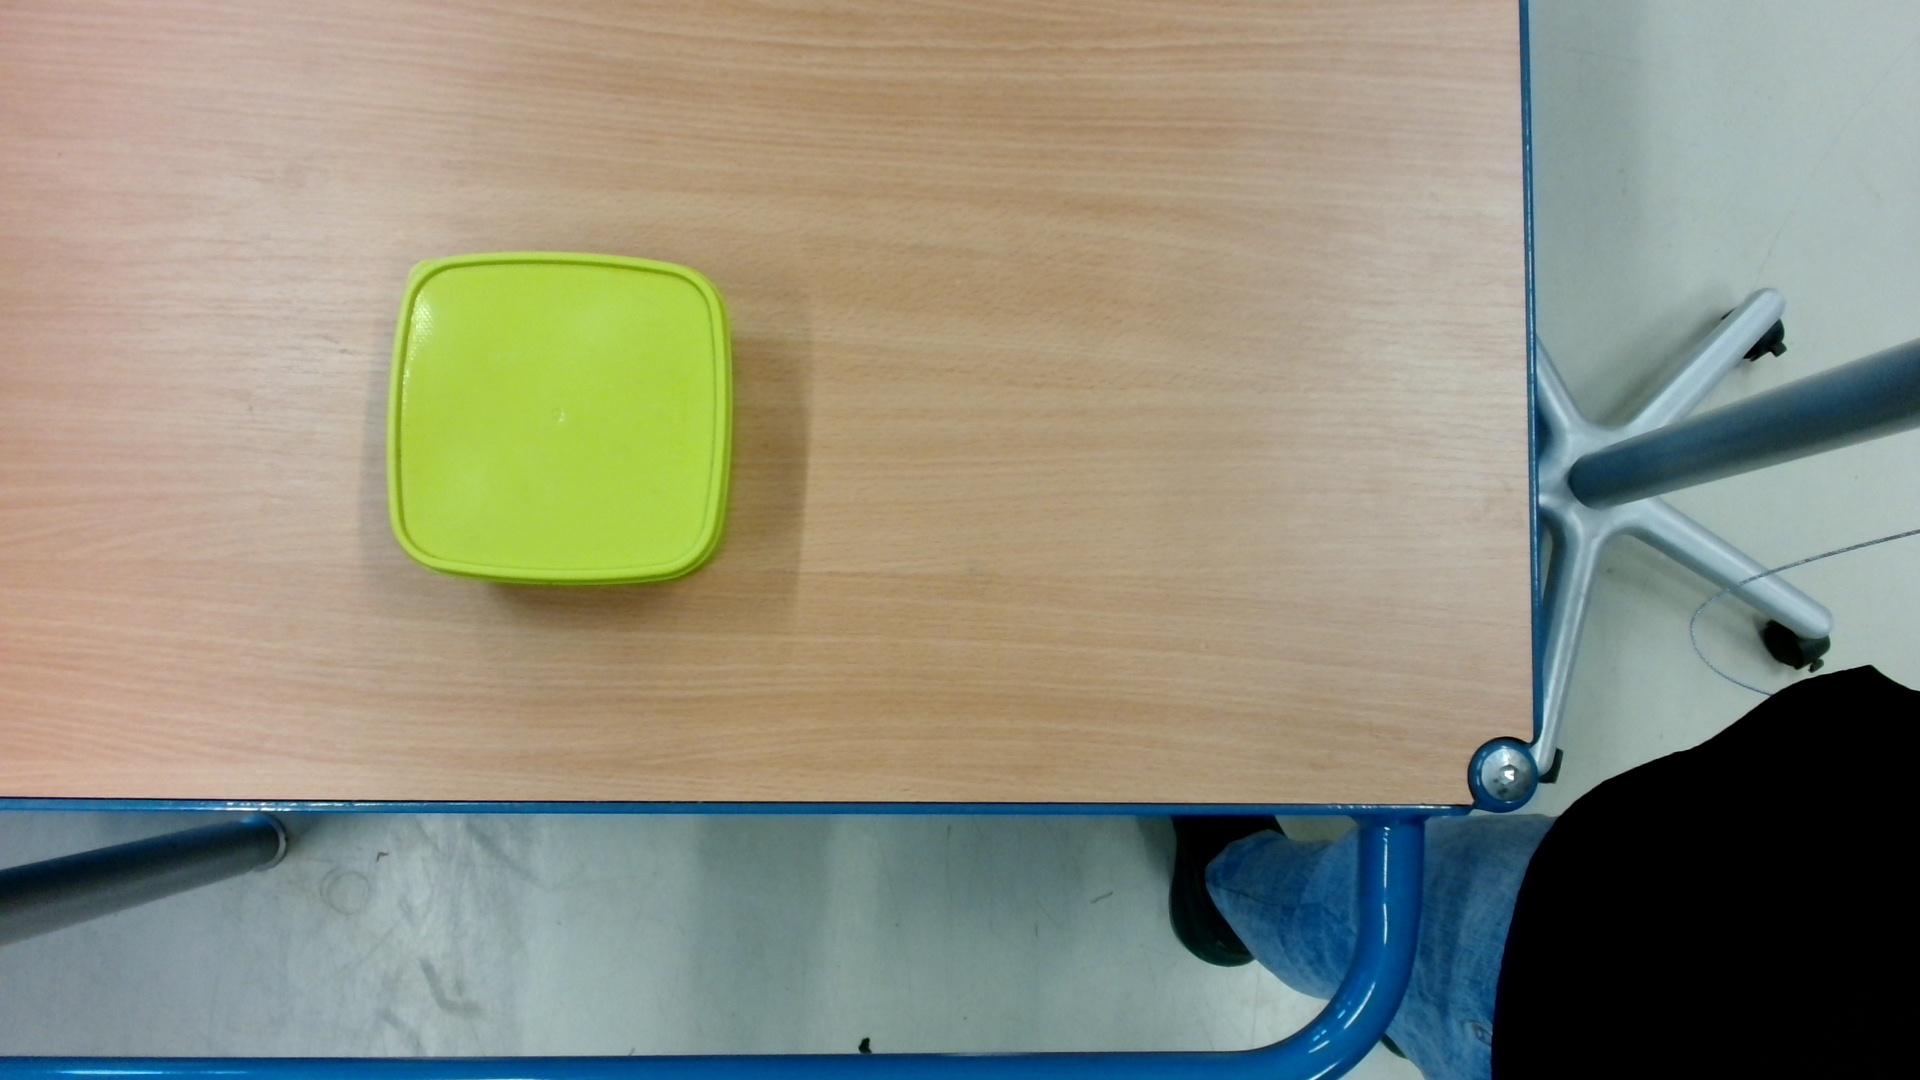Box: (375, 243, 742, 597)
